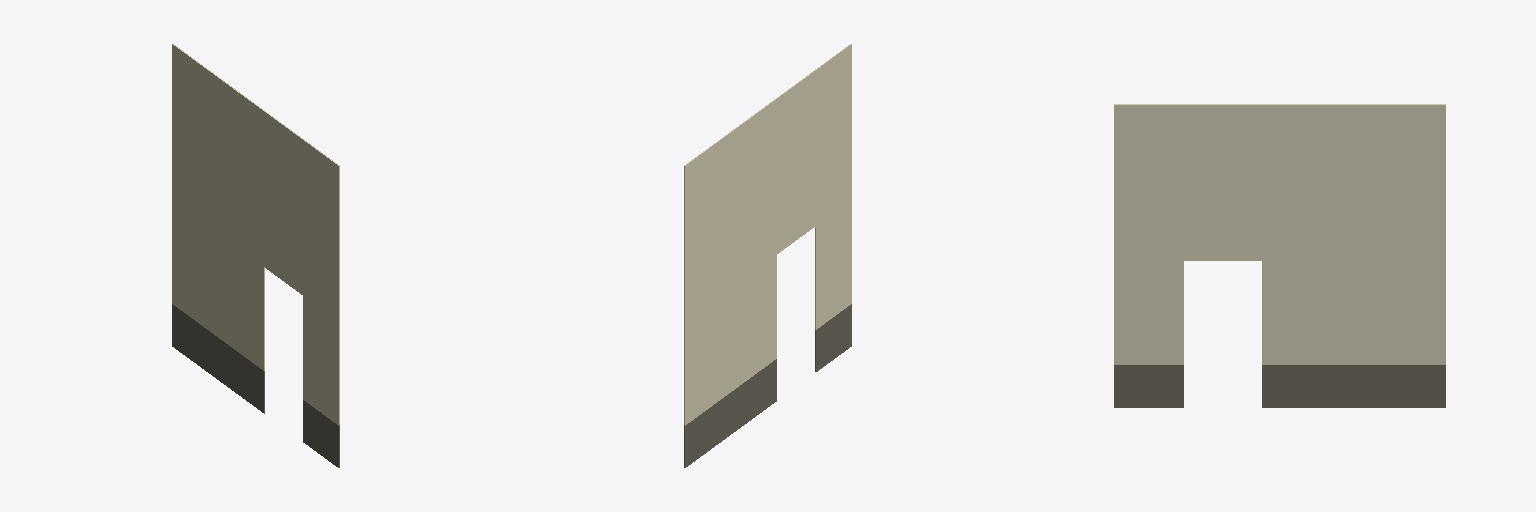
3 renders of one model, left to right at view 1: azimuth 30°, elevation 25°; view 2: azimuth 150°, elevation 25°; view 3: azimuth 270°, elevation 25°, orthographic.
Parts seen in each view (by area): view 1: object 1; view 2: object 1; view 3: object 1.
Boxes of the visible parts, box(x1,y1,x2,y2) form: object 1: box(172, 44, 339, 467); object 1: box(684, 44, 851, 467); object 1: box(1114, 104, 1445, 407).
Bounding box in the file's own units: 0.1 × 25.6 × 25.5.
1 materials, 1 textured.